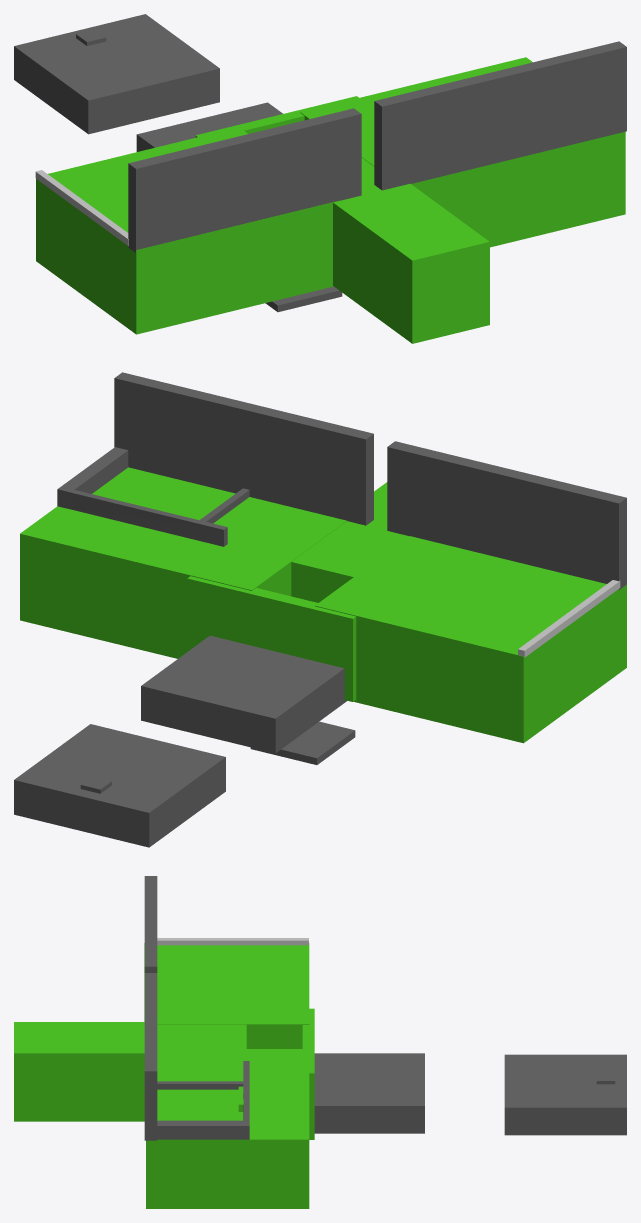
The model's file is stage5.obj.
The picture shows the model from 3 angles, top to bottom: view 1: azimuth 30°, elevation 25°; view 2: azimuth 150°, elevation 25°; view 3: azimuth 270°, elevation 25°; orthographic projection. The views are drawn at different scales.
Visible parts, largest first — view 1: ステージ本体.005; view 2: ステージ本体.005; view 3: ステージ本体.005.
Boxes of the visible parts, x1=… form: ステージ本体.005: x1=14, y1=14, x2=626, y2=343; ステージ本体.005: x1=14, y1=372, x2=626, y2=847; ステージ本体.005: x1=14, y1=876, x2=626, y2=1208.
Size of the model in its own units: 152 by 71.11 by 200.
2 materials, 1 textured.
